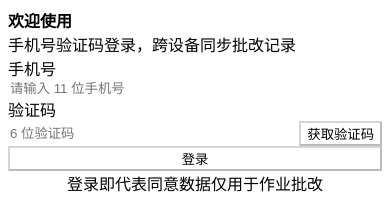
Test: Login > 登录页 › sends code and starts the resend countdown
This screenshot has width=390, height=209.
In the number field with placeholder "请输入 11 位手机号": (195, 88) [8,80,382,97], type "13800138000"
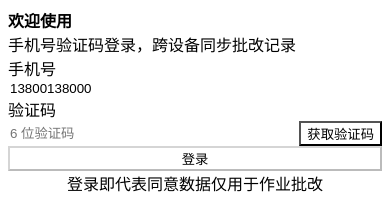
Click the button "获取验证码": (341, 134) [299,121,382,146]
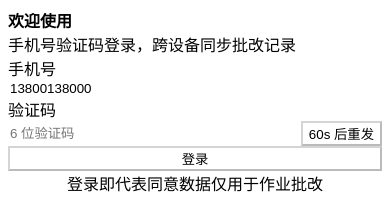
Expected: the button "60s 后重发" is shown, [301,121,382,146]
